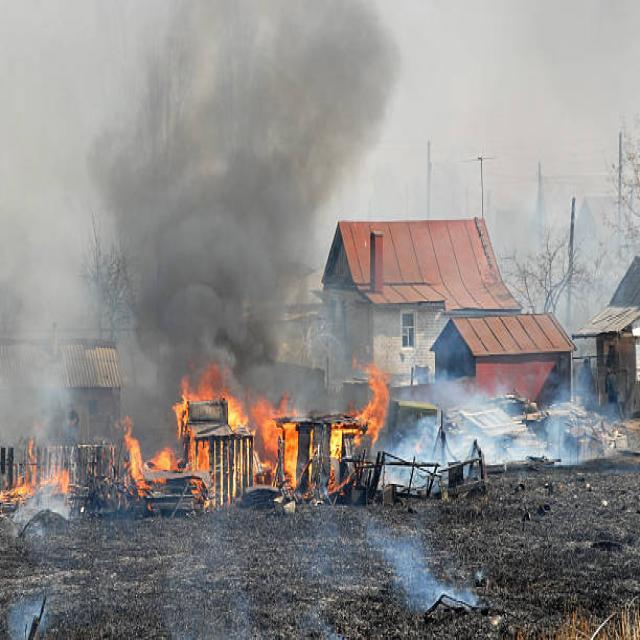Fire: (109, 348, 408, 508), (5, 438, 74, 511)
Smoke: (111, 0, 389, 412)
